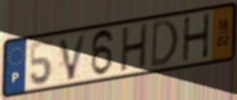5: (29, 36, 55, 88)
6: (90, 27, 118, 80)
D: (149, 17, 180, 71)
H: (119, 21, 150, 74), (182, 11, 212, 64)
V: (57, 32, 89, 83)
